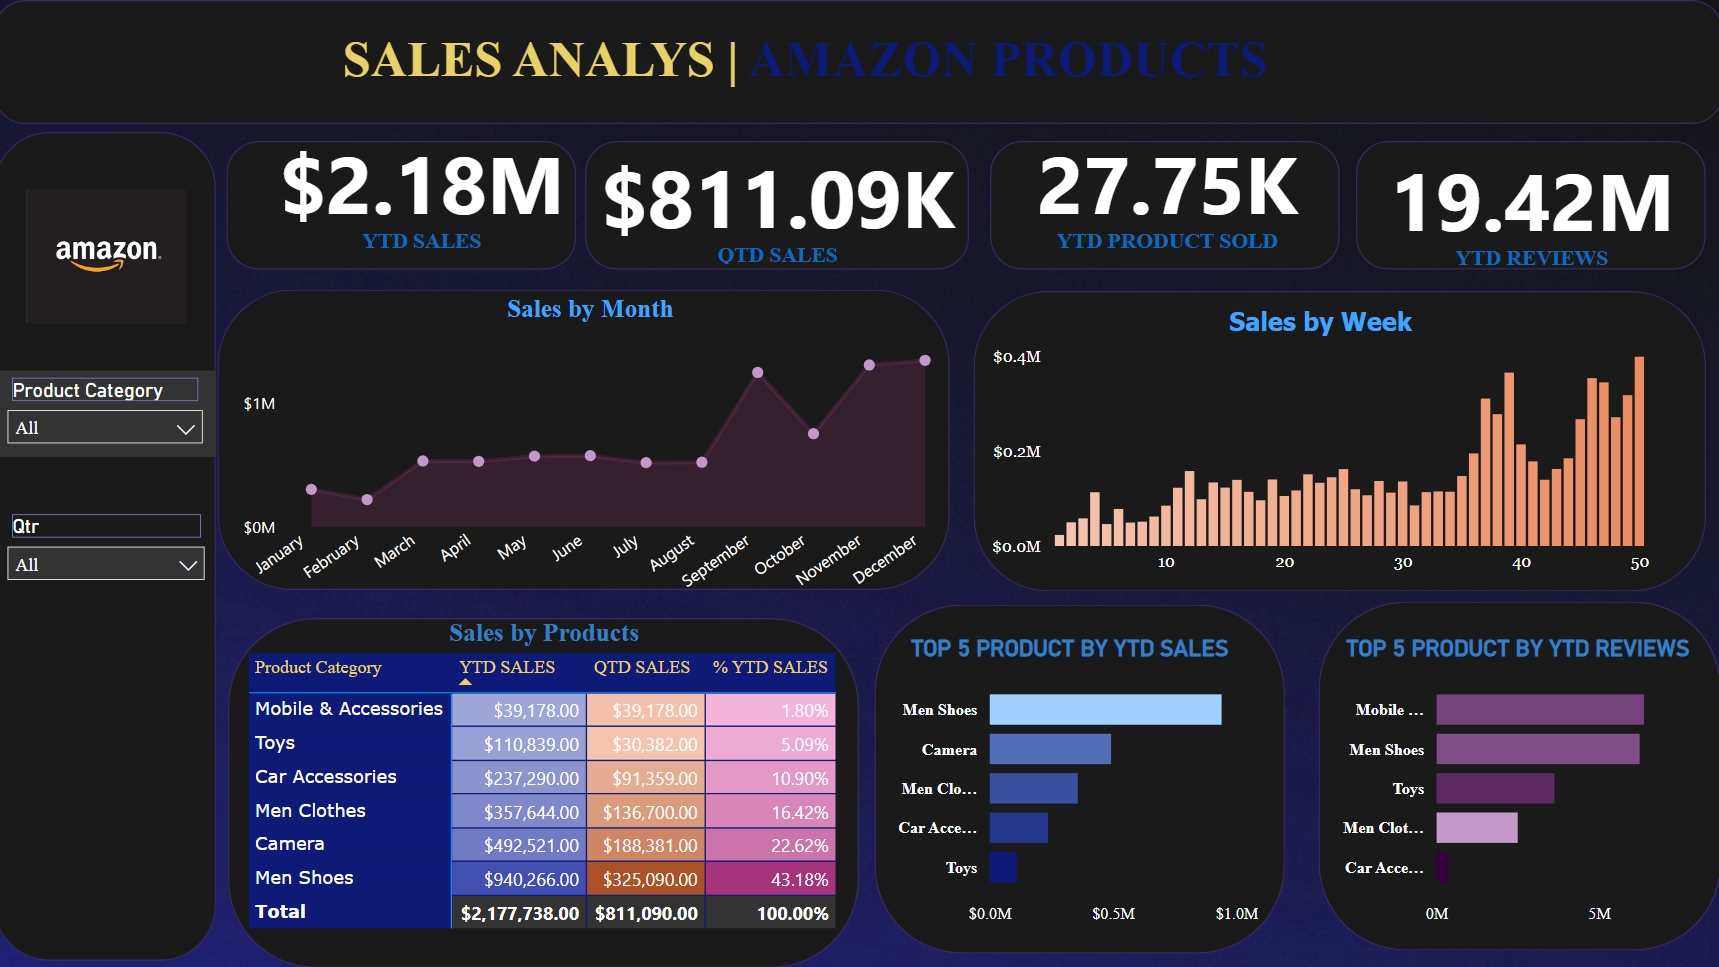

What the dashboard file says about the page in this screenshot:
{"tool":"powerbi","page":{"name":"Dashboard","canvas":[1280,720],"ordinal":1},"visuals":[{"type":"card","fields":{"Values":["Amazon_Data.YTD SALES"]},"box":[202,92.3,229,98.6],"z":0,"group":"g1"},{"type":"shape","box":[0,98.3,164.4,614.2],"z":0},{"type":"shape","box":[0,0,1280.4,92.3],"z":1000},{"type":"card","fields":{"Values":["Amazon_Data.QTD SALES"]},"box":[424.7,101.8,311.8,98.6],"z":1000,"group":"g1"},{"type":"card","fields":{"Values":["Amazon_Data.YTD PRODUCT SOLD"]},"box":[753.9,92.3,229,98.6],"z":2000,"group":"g1"},{"type":"shape","box":[171.8,105,259.3,95.4],"z":2000},{"type":"shape","box":[437.4,105,284.7,95.4],"z":3000},{"type":"card","fields":{"Values":["Amazon_Data.YTD REVIEWS"]},"box":[1024.3,105,229,98.6],"z":3000,"group":"g1"},{"type":"shape","box":[1008.4,105,259.3,95.4],"z":4000},{"type":"shape","box":[738,105,259.3,95.4],"z":5000},{"type":"textbox","box":[253.2,17,757.8,58.6],"z":6000},{"type":"shape","box":[165.4,214.7,542.4,222.7],"z":7000},{"type":"shape","box":[725.7,215.4,542.4,223],"z":8000},{"type":"lineChart","title":"Sales by Month","fields":{"Category":["Date Tabel.Date.Variation.Date Hierarchy.Month"],"Y":["Sum(Amazon_Data.Price(Dollar))"]},"box":[171.8,217.9,539.2,240.2],"z":9000},{"type":"group","id":"g1","title":"Group 1","box":[202,92.3,1051.4,111.3],"z":10000},{"type":"clusteredColumnChart","title":"Sales by Week","fields":{"Category":["Date Tabel.Week"],"Y":["Sum(Amazon_Data.Price(Dollar))"]},"box":[733.2,226.8,498.9,206],"z":10001},{"type":"shape","box":[173.4,458.1,467.6,259.3],"z":10002},{"type":"pivotTable","title":"Sales by Products","fields":{"Rows":["Amazon_Data.Product Category"],"Values":["Amazon_Data.YTD SALES1","Amazon_Data.QTD SALES","Amazon_Data.YTD SALES"]},"box":[182.9,458.1,448.6,248.1],"z":10003},{"type":"shape","box":[652,447.9,304.3,258.9],"z":10004},{"type":"barChart","title":"TOP 5 PRODUCT BY YTD SALES","fields":{"Y":["Amazon_Data.YTD SALES"],"Category":["Amazon_Data.Product Category"]},"box":[652,470.6,289.1,223],"z":10005},{"type":"shape","box":[980.8,446,298.6,258.9],"z":10006},{"type":"barChart","title":"TOP 5 PRODUCT BY YTD REVIEWS","fields":{"Category":["Amazon_Data.Product Category"],"Y":["Amazon_Data.YTD REVIEWS"]},"box":[982.7,470.6,292.9,223],"z":10007},{"type":"slicer","fields":{"Values":["Amazon_Data.Product Category"]},"box":[0,274,164.4,64.3],"z":10008},{"type":"slicer","fields":{"Values":["Date Tabel.Qtr"]},"box":[0,376.1,166.3,64.3],"z":10009},{"type":"image","box":[18.9,126.6,128.5,126.6],"z":10010}]}

Visuals, with their boxes in screenshot pixels (x1, y1, x2, y2), scaled from the page's 1280x720 canvas onto the 1719x967 screenshot:
card - Amazon_Data.YTD SALES: l=271, t=124, r=579, b=256
shape: l=0, t=132, r=221, b=957
shape: l=0, t=0, r=1718, b=124
card - Amazon_Data.QTD SALES: l=570, t=137, r=989, b=269
card - Amazon_Data.YTD PRODUCT SOLD: l=1012, t=124, r=1320, b=256
shape: l=231, t=141, r=579, b=269
shape: l=587, t=141, r=970, b=269
card - Amazon_Data.YTD REVIEWS: l=1376, t=141, r=1683, b=273
shape: l=1354, t=141, r=1702, b=269
shape: l=991, t=141, r=1339, b=269
textbox: l=340, t=23, r=1358, b=102
shape: l=222, t=288, r=951, b=587
shape: l=975, t=289, r=1703, b=589
"Sales by Month" lineChart: l=231, t=293, r=955, b=615
"Group 1" group: l=271, t=124, r=1683, b=273
"Sales by Week" clusteredColumnChart: l=985, t=305, r=1655, b=581
shape: l=233, t=615, r=861, b=964
"Sales by Products" pivotTable: l=246, t=615, r=848, b=948
shape: l=876, t=602, r=1284, b=949
"TOP 5 PRODUCT BY YTD SALES" barChart: l=876, t=632, r=1264, b=932
shape: l=1317, t=599, r=1718, b=947
"TOP 5 PRODUCT BY YTD REVIEWS" barChart: l=1320, t=632, r=1713, b=932
slicer - Amazon_Data.Product Category: l=0, t=368, r=221, b=454
slicer - Date Tabel.Qtr: l=0, t=505, r=223, b=591
image: l=25, t=170, r=198, b=340
